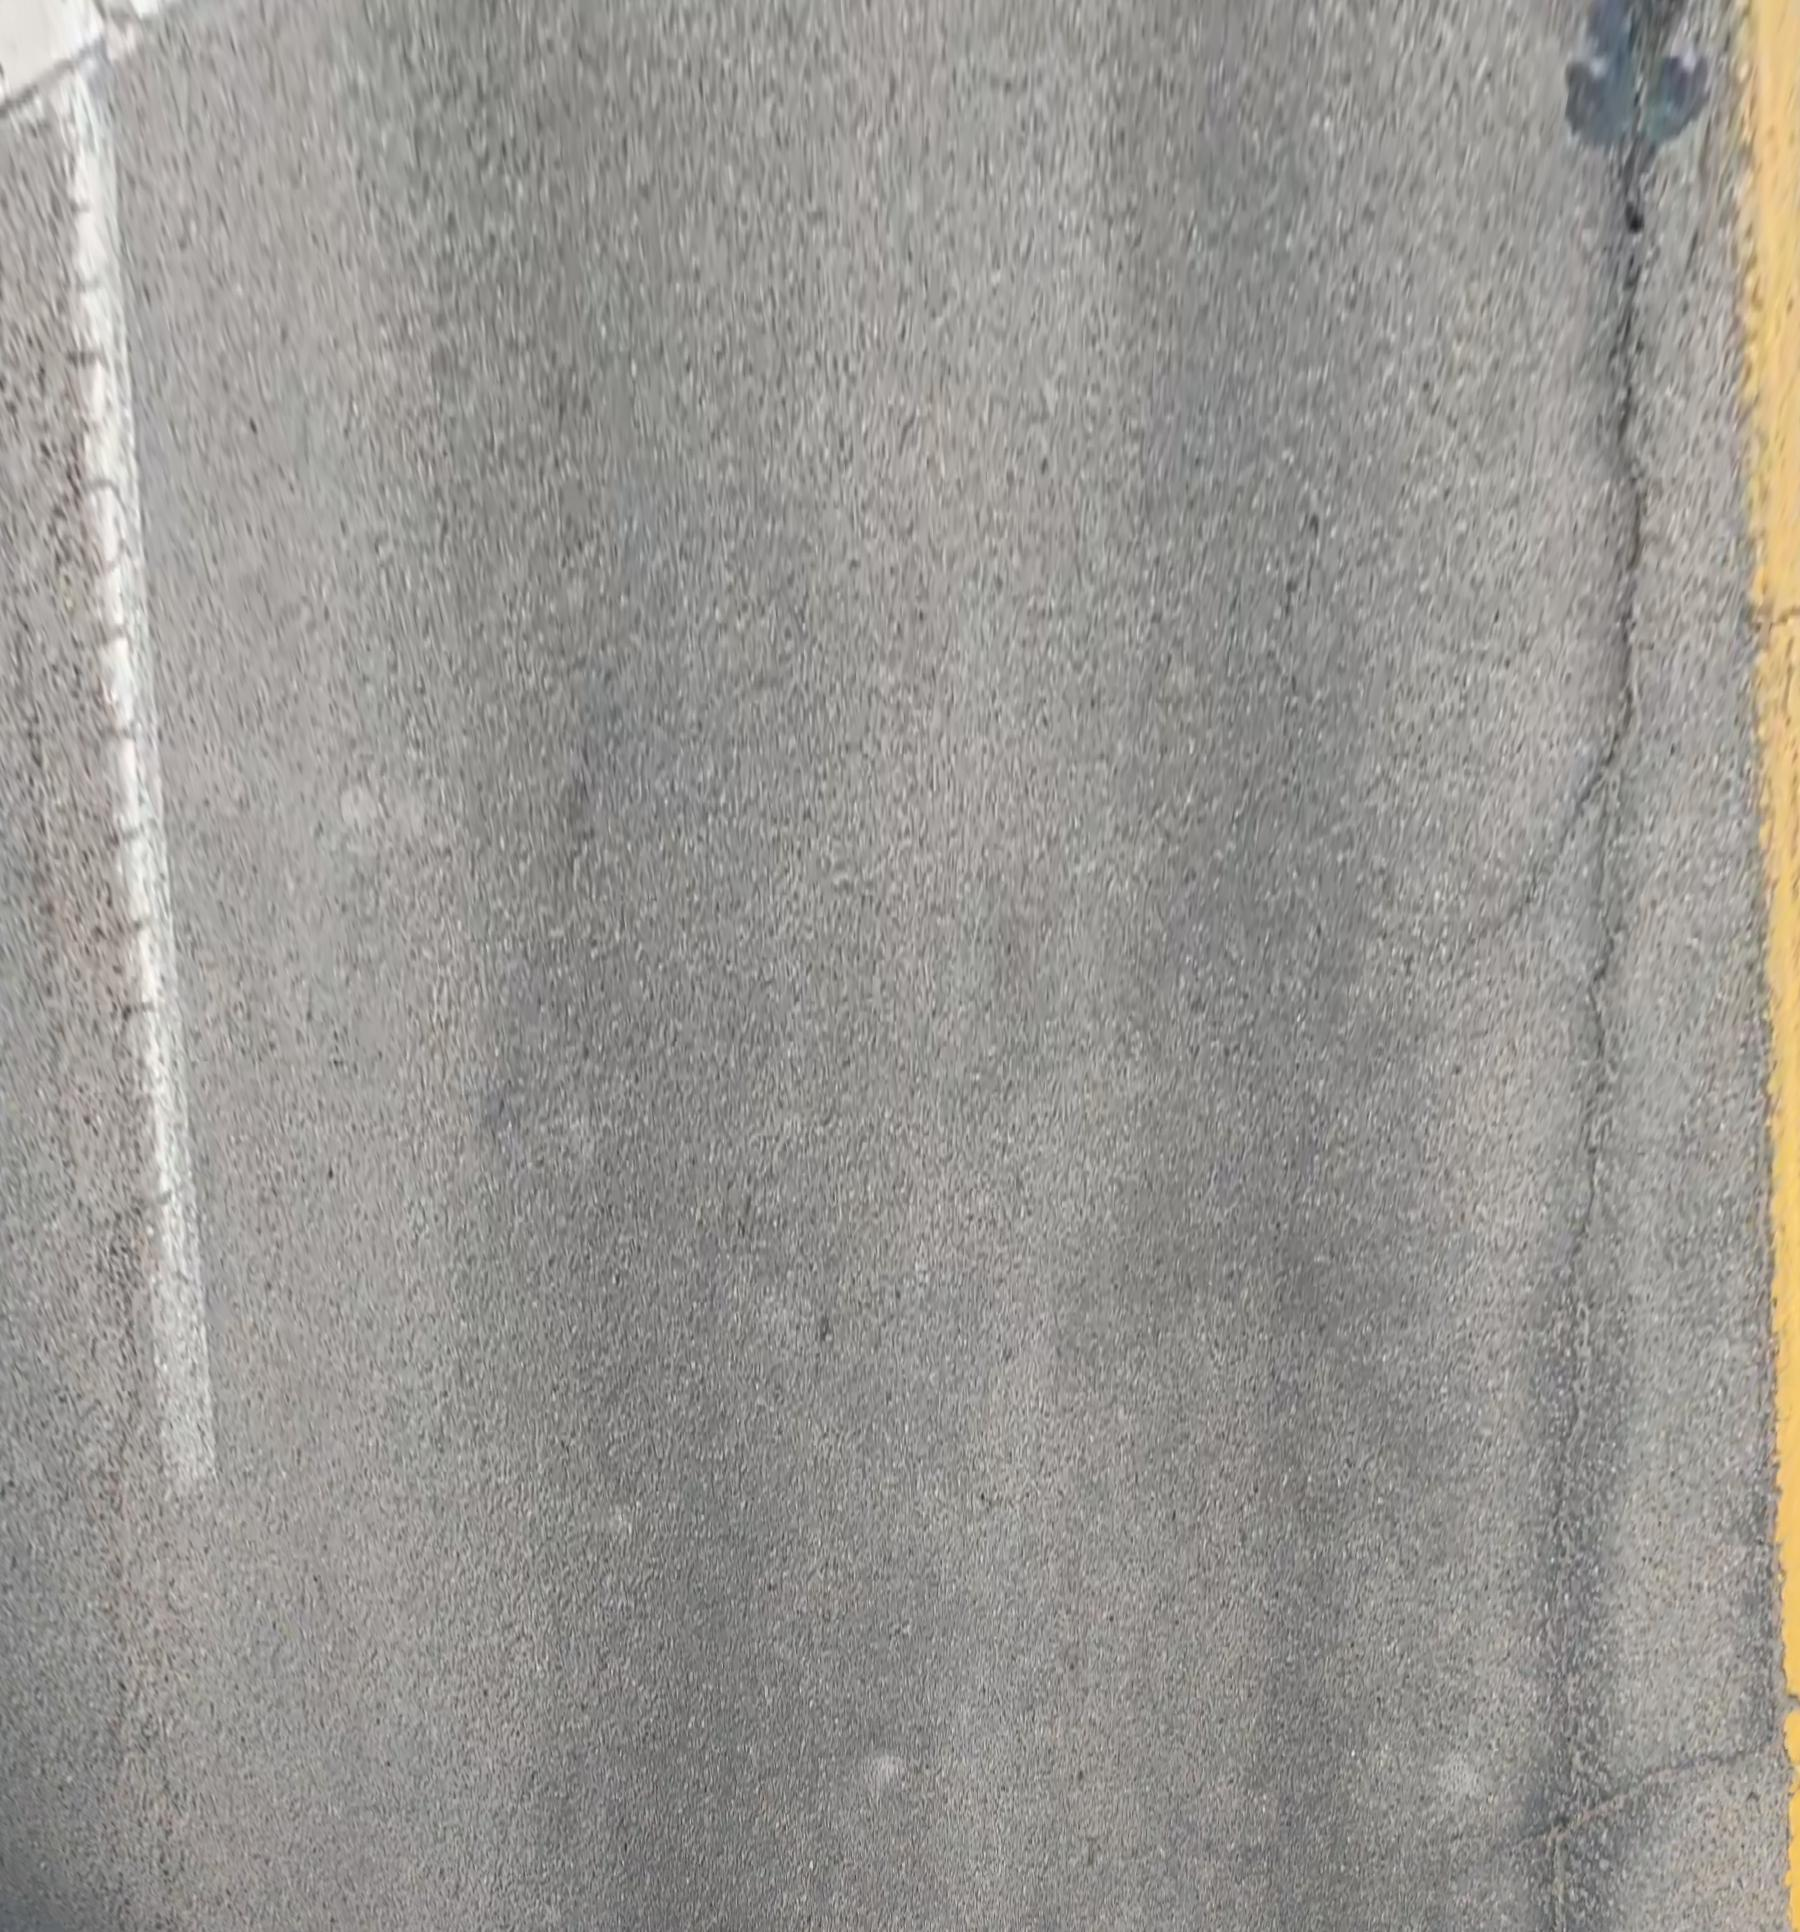pothole_patch_poor: (1568, 0, 1707, 159)
